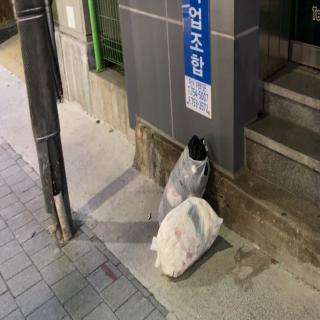Garbage: (152, 193, 222, 277), (159, 136, 210, 214)
